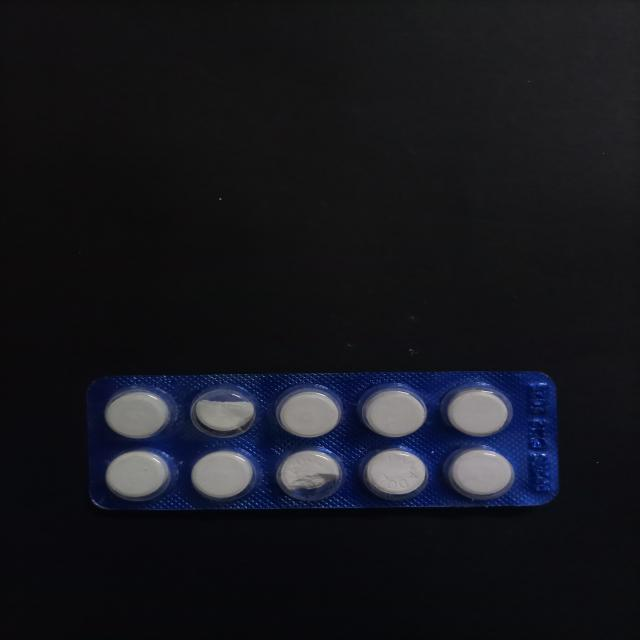defect: (270, 446, 348, 504), (186, 384, 260, 440)
